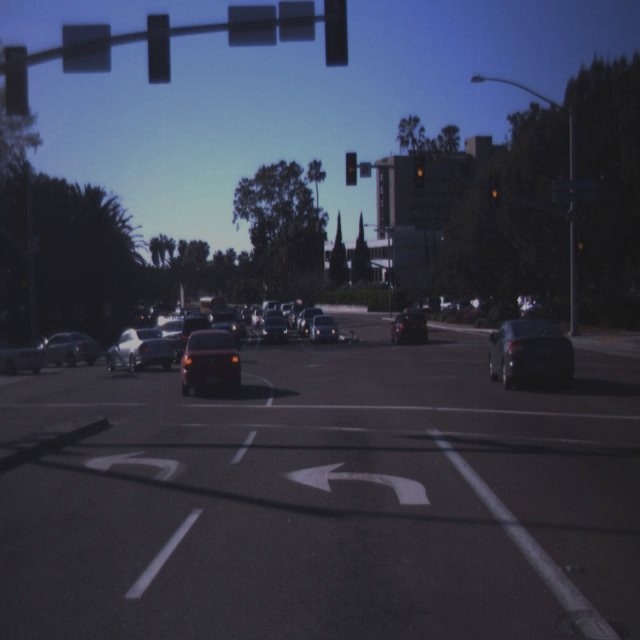warning: (579, 244, 583, 248), (419, 172, 422, 176), (493, 192, 496, 196)
warning left: (348, 166, 354, 173), (23, 281, 29, 287)
warning left traffic light: (341, 151, 362, 184), (16, 268, 36, 298)
warning traffic light: (576, 237, 586, 254), (416, 164, 425, 182), (490, 184, 499, 202)
